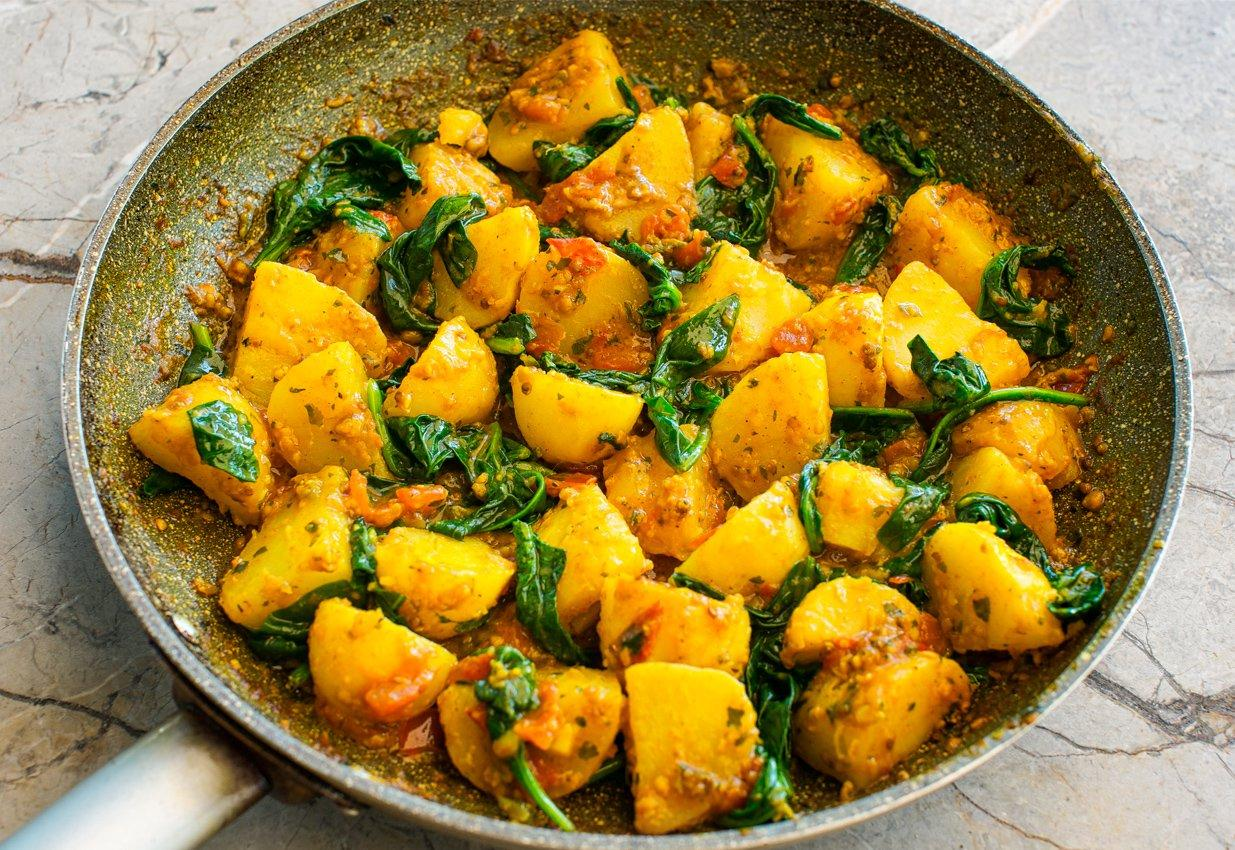Aloo Methi: (160, 24, 1163, 850)
